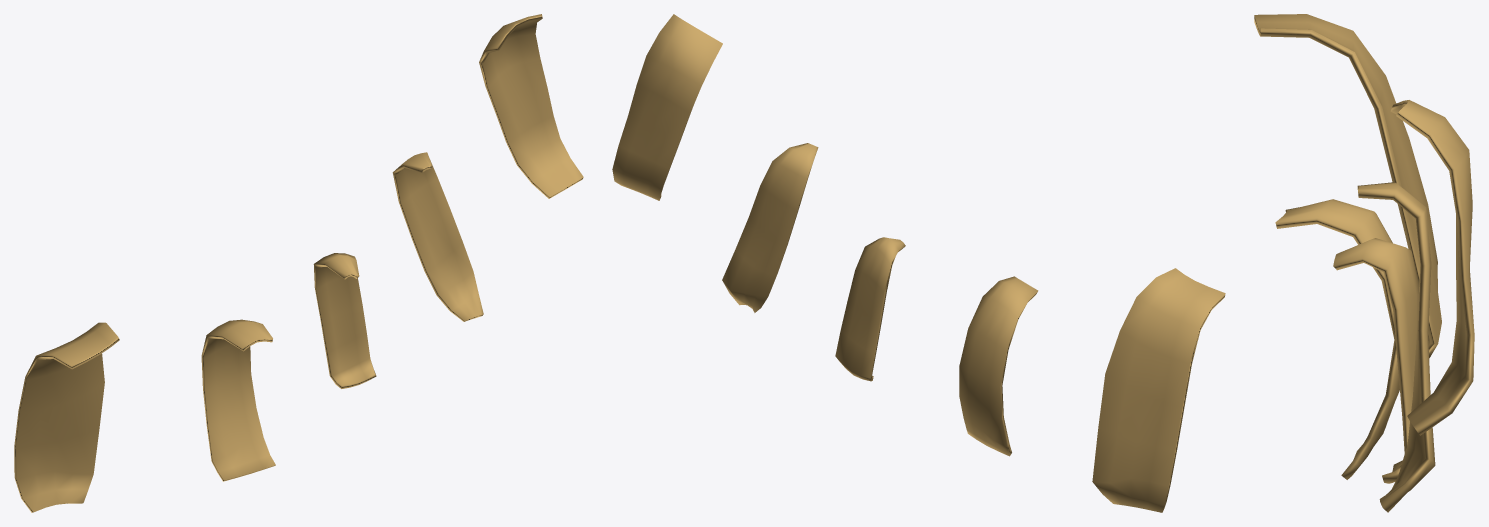
The picture shows the model from 3 angles, left to right: view 1: azimuth 30°, elevation 25°; view 2: azimuth 150°, elevation 25°; view 3: azimuth 270°, elevation 25°; orthographic projection. The views are drawn at different scales.
Visible parts, largest first — view 1: 左侧跖趾关节足底韧带; view 2: 左侧跖趾关节足底韧带; view 3: 左侧跖趾关节足底韧带.
Part boxes in pixels (x1,y1,x2,y2): 左侧跖趾关节足底韧带: [14, 14, 583, 512]; 左侧跖趾关节足底韧带: [612, 14, 1225, 512]; 左侧跖趾关节足底韧带: [1254, 14, 1474, 512].
Size of the model in its own units: 0.1005 by 0.0648 by 0.0212.
